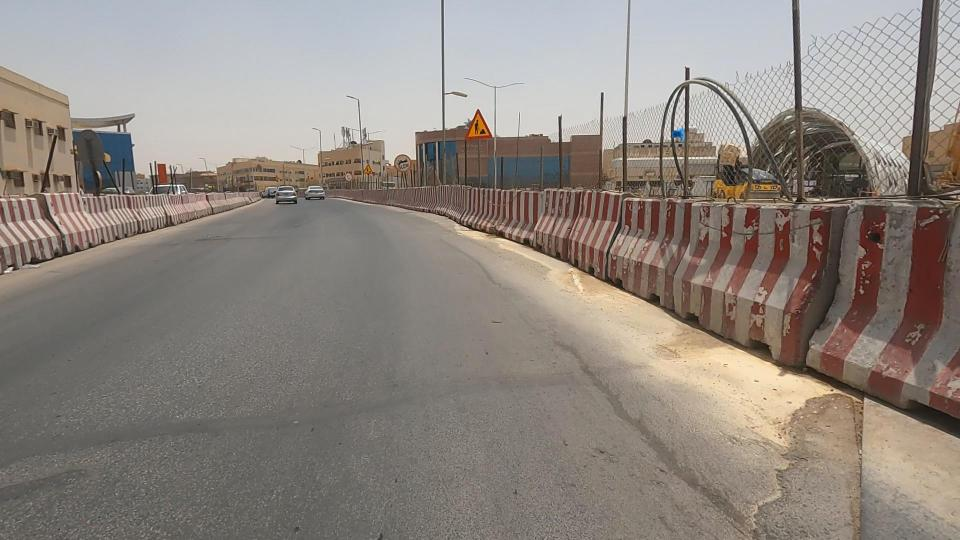CONSTRUCTION_ROAD: (500, 17, 960, 411), (425, 91, 667, 308), (0, 156, 189, 266), (334, 129, 502, 227), (105, 164, 232, 236), (189, 164, 267, 224), (311, 149, 381, 203)
